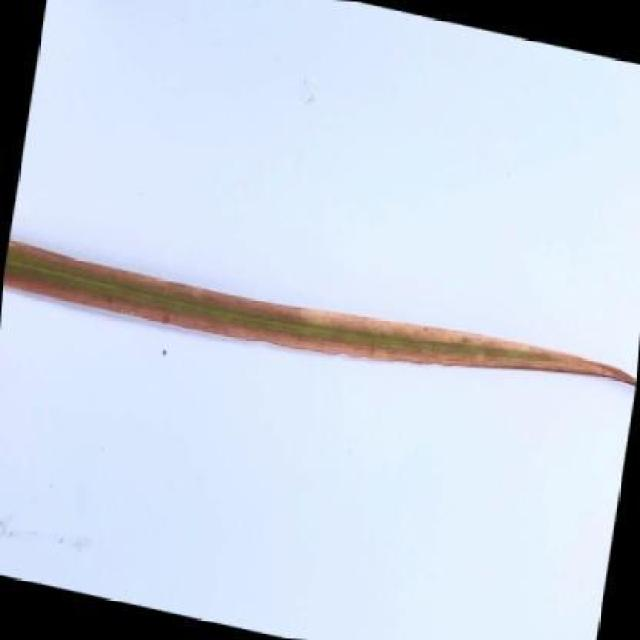Rice False Smut: (0, 239, 638, 382)
